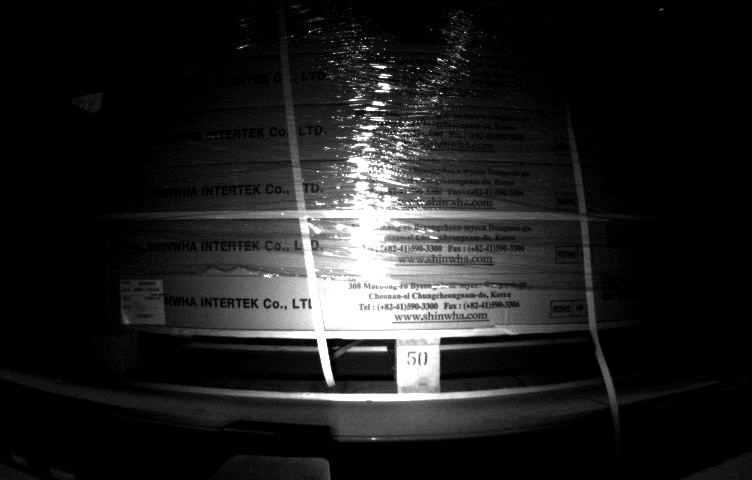True Barcode: (114, 276, 172, 328)
